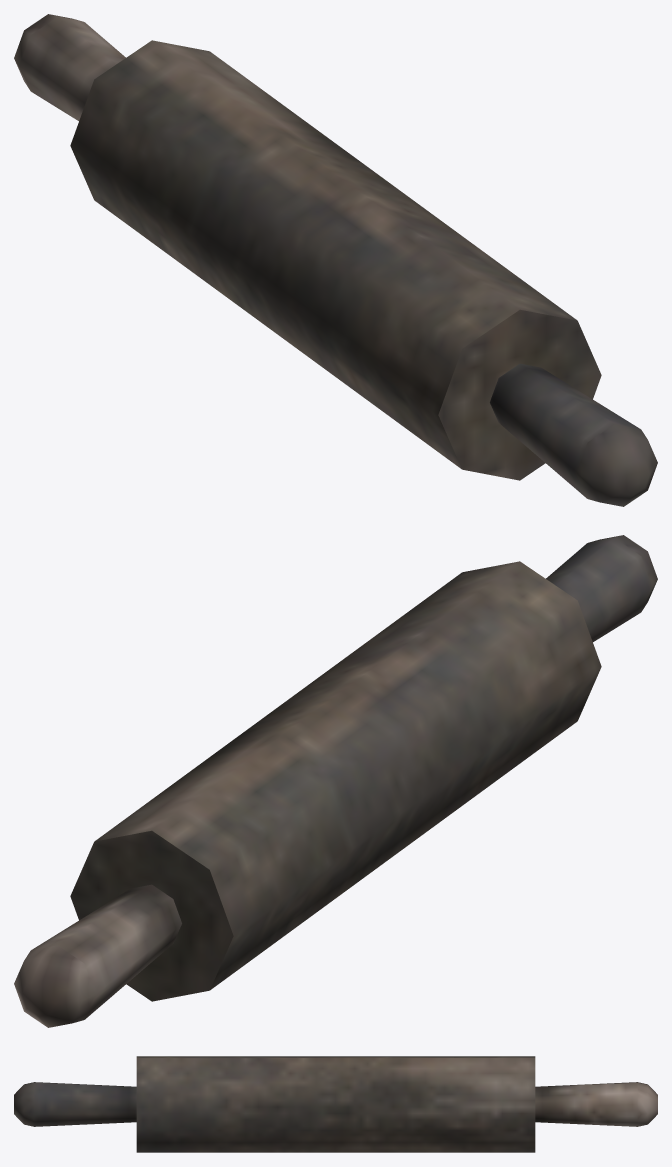
The model's file is RollingPin.FBX.
3 renders of one model, top to bottom at view 1: azimuth 30°, elevation 25°; view 2: azimuth 150°, elevation 25°; view 3: azimuth 270°, elevation 25°, orthographic. The views are drawn at different scales.
Parts seen in each view (by area): view 1: RollingPin; view 2: RollingPin; view 3: RollingPin.
Part boxes in pixels (box(x1,y1,x2,y2)): RollingPin: box(14, 14, 657, 506); RollingPin: box(14, 535, 657, 1027); RollingPin: box(14, 1056, 657, 1152).
Bounding box in the file's own units: 6.88 × 6.88 × 43.34.
